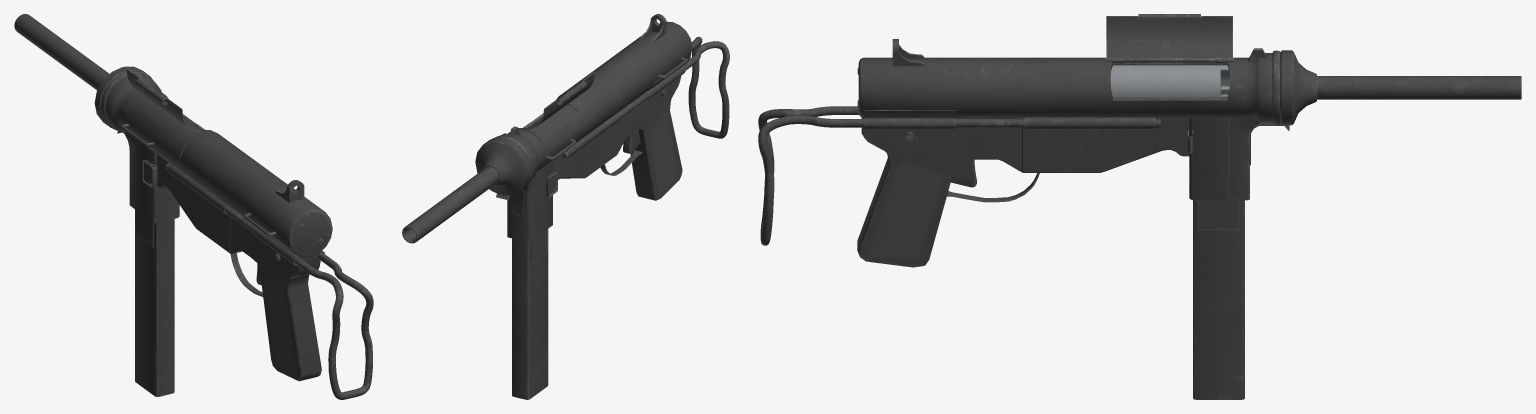
File: ge_grease.gltf
3 views of the same model, side by side, from view 1: azimuth 30°, elevation 25°; view 2: azimuth 150°, elevation 25°; view 3: azimuth 270°, elevation 25° (orthographic). The views are drawn at different scales.
Visible parts, largest first — view 1: Body, Magazine, Stock, EjectorLid; view 2: Body, Magazine, Stock, EjectorLid; view 3: Body, Magazine, EjectorLid, Bolt, Stock.
Part boxes in pixels (bbox=[...]): Body: bbox=[14, 14, 332, 381]; Magazine: bbox=[135, 209, 174, 396]; Stock: bbox=[165, 163, 373, 399]; EjectorLid: bbox=[126, 69, 205, 132]; Body: bbox=[402, 14, 692, 243]; Magazine: bbox=[512, 229, 548, 399]; Stock: bbox=[562, 36, 729, 158]; EjectorLid: bbox=[522, 72, 594, 129]; Body: bbox=[857, 39, 1521, 267]; Magazine: bbox=[1193, 89, 1244, 399]; EjectorLid: bbox=[1105, 14, 1234, 62]; Bolt: bbox=[1110, 65, 1229, 98]; Stock: bbox=[758, 106, 1160, 245].
Size of the model in its own units: 0.0635 by 0.334 by 0.6271.
Materials: 1 (1 with a texture image).
